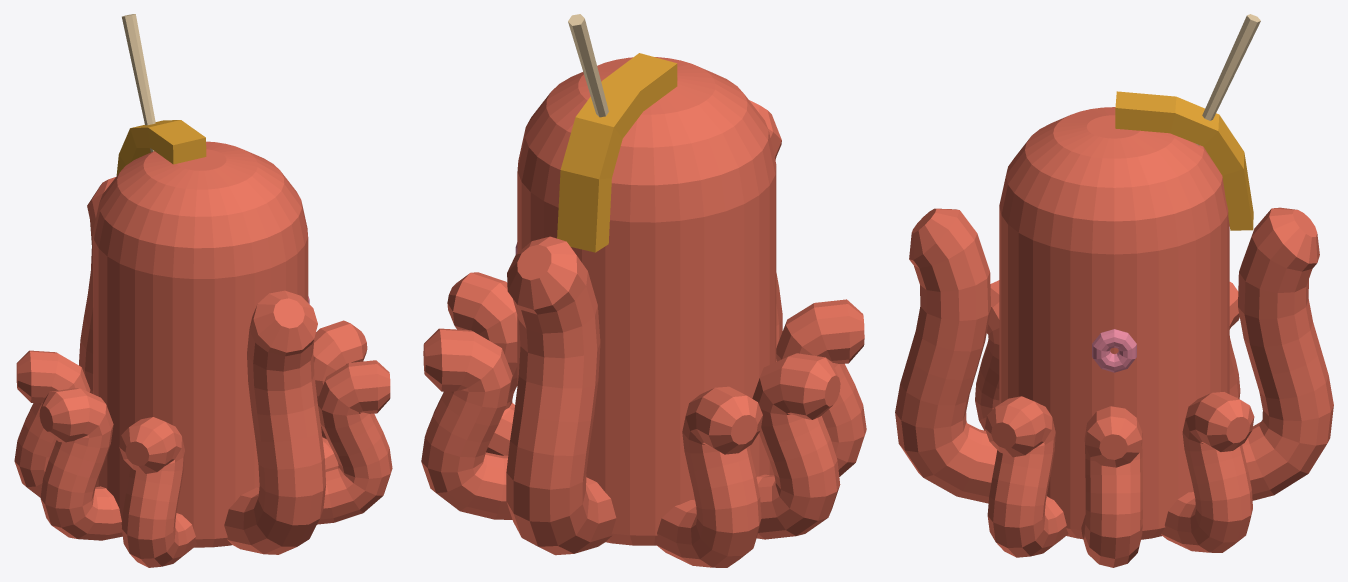
The model's file is pulpo (1).fbx.
The picture shows the model from 3 angles, left to right: view 1: azimuth 30°, elevation 25°; view 2: azimuth 150°, elevation 25°; view 3: azimuth 270°, elevation 25°; orthographic projection. The views are drawn at different scales.
Parts seen in each view (by area): view 1: Cylinder, BézierCurve.001, BezierCurve.004, BezierCurve.002, BezierCurve.005, BezierCurve.006, BezierCurve.003, BezierCurve, BézierCurve, Cylinder.001; view 2: Cylinder, BézierCurve, BezierCurve.001, BezierCurve.006, BezierCurve.004, BezierCurve.003, BezierCurve.005, BezierCurve, Cylinder.001, BézierCurve.001; view 3: Cylinder, BézierCurve.001, BézierCurve, BezierCurve.001, BezierCurve.002, BezierCurve, BezierCurve.003, BezierCurve.005, Cylinder.001, Torus, BezierCurve.006.
Boxes of the visible parts, box(x1,y1,x2,y2) form: Cylinder: box(93, 141, 308, 547); BézierCurve.001: box(224, 290, 326, 554); BezierCurve.004: box(39, 388, 122, 540); BezierCurve.002: box(317, 360, 392, 524); BezierCurve.005: box(119, 417, 196, 567); BezierCurve.006: box(14, 350, 90, 497); BezierCurve.003: box(116, 120, 206, 175); BezierCurve: box(313, 320, 367, 469); BézierCurve: box(79, 177, 115, 393); Cylinder.001: box(122, 14, 155, 152); Cylinder: box(517, 57, 776, 545); BézierCurve: box(506, 236, 616, 555); BezierCurve.001: box(421, 328, 512, 519); BezierCurve.006: box(654, 386, 762, 567); BezierCurve.004: box(752, 353, 840, 539); BezierCurve.003: box(557, 53, 677, 252); BezierCurve.005: box(776, 299, 866, 476); BezierCurve: box(447, 272, 517, 455); Cylinder.001: box(568, 14, 608, 117); BézierCurve.001: box(749, 100, 782, 361); Cylinder: box(999, 107, 1229, 539); BézierCurve.001: box(895, 208, 997, 503); BézierCurve: box(1238, 207, 1333, 500); BezierCurve.001: box(1161, 392, 1254, 552); BezierCurve.002: box(985, 396, 1068, 557); BezierCurve: box(1081, 406, 1142, 567); BezierCurve.003: box(1115, 91, 1253, 230); BezierCurve.005: box(975, 280, 999, 430); Cylinder.001: box(1196, 14, 1260, 145); Torus: box(1092, 329, 1136, 372); BezierCurve.006: box(1229, 282, 1240, 398).
Bounding box in the file's own units: 342 × 469 × 381.
